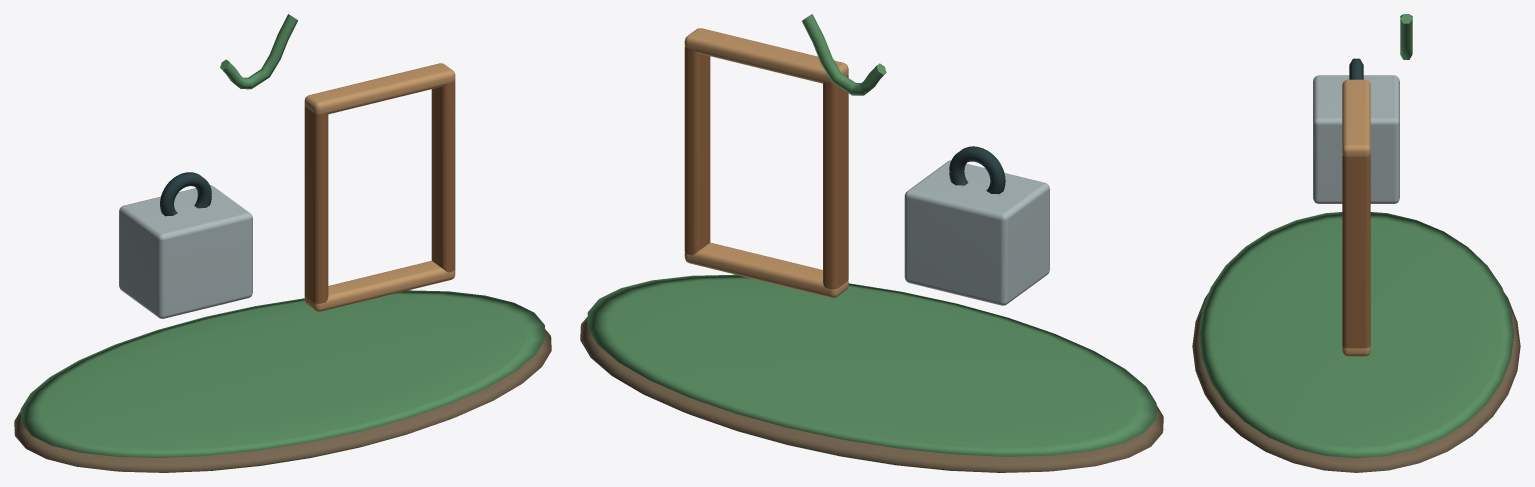
File: complete-third-real-border.glb
3 renders of one model, left to right at view 1: azimuth 30°, elevation 25°; view 2: azimuth 150°, elevation 25°; view 3: azimuth 270°, elevation 25°, orthographic. The views are drawn at different scales.
Visible parts, largest first — view 1: complete-third-real-border_surface_01, complete-third-real-border_surface_02, complete-third-real-border_surface_04, complete-third-real-border_surface_00, complete-third-real-border_surface_05, complete-third-real-border_surface_03; view 2: complete-third-real-border_surface_01, complete-third-real-border_surface_02, complete-third-real-border_surface_04, complete-third-real-border_surface_00, complete-third-real-border_surface_05, complete-third-real-border_surface_03; view 3: complete-third-real-border_surface_01, complete-third-real-border_surface_02, complete-third-real-border_surface_00, complete-third-real-border_surface_04, complete-third-real-border_surface_05.
Part boxes in pixels (x1,y1,x2,y2): complete-third-real-border_surface_01: (20,14,545,457); complete-third-real-border_surface_02: (119,185,252,318); complete-third-real-border_surface_04: (304,80,455,303); complete-third-real-border_surface_00: (14,329,551,472); complete-third-real-border_surface_05: (304,63,455,311); complete-third-real-border_surface_03: (160,172,211,216); complete-third-real-border_surface_01: (587,14,1156,456); complete-third-real-border_surface_02: (904,160,1049,305); complete-third-real-border_surface_04: (684,46,848,289); complete-third-real-border_surface_00: (580,317,1163,472); complete-third-real-border_surface_05: (684,28,848,297); complete-third-real-border_surface_03: (949,146,1005,194); complete-third-real-border_surface_01: (1199,14,1513,458); complete-third-real-border_surface_02: (1313,75,1399,203); complete-third-real-border_surface_00: (1192,292,1520,472); complete-third-real-border_surface_04: (1342,155,1370,348); complete-third-real-border_surface_05: (1342,79,1370,356).
Bounding box in the file's own units: 4.56 × 3.05 × 2.5.
